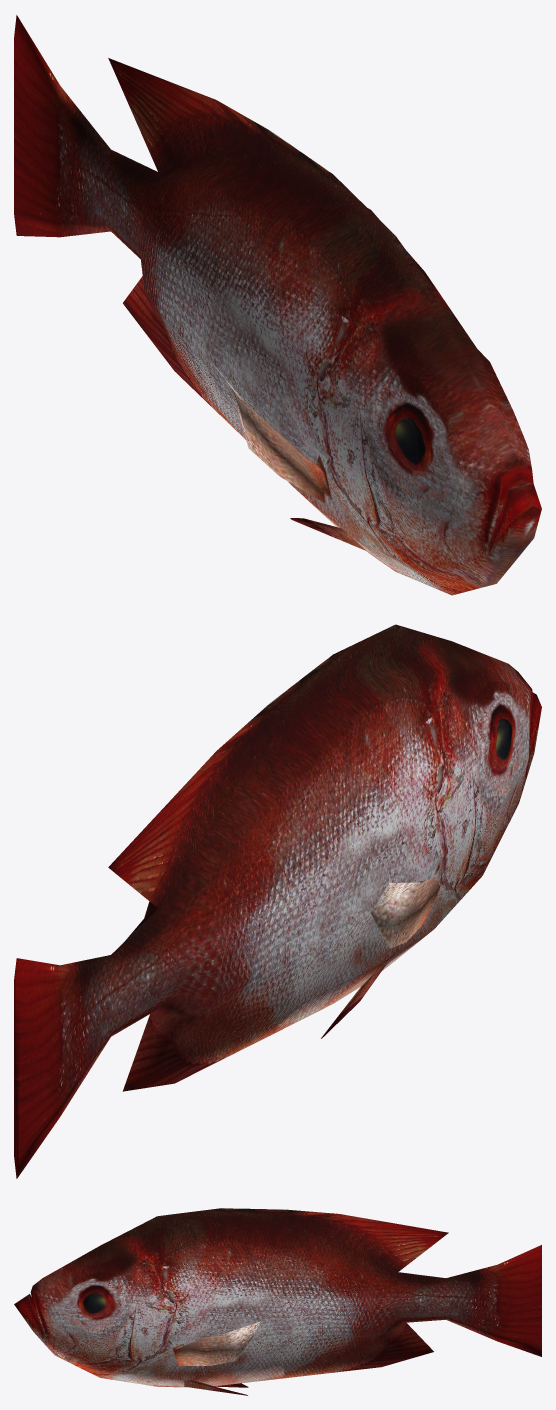
File: fish1.obj
3 renders of one model, top to bottom at view 1: azimuth 30°, elevation 25°; view 2: azimuth 150°, elevation 25°; view 3: azimuth 270°, elevation 25°, orthographic. The views are drawn at different scales.
Parts seen in each view (by area): view 1: fishV1_Sphere; view 2: fishV1_Sphere; view 3: fishV1_Sphere.
Boxes of the visible parts, x1,y1,x2,y2 form: fishV1_Sphere: (14,15,541,595); fishV1_Sphere: (14,624,541,1178); fishV1_Sphere: (14,1208,541,1395).
Bounding box in the file's own units: 1.78 × 3.21 × 8.39.
1 material, 1 textured.
